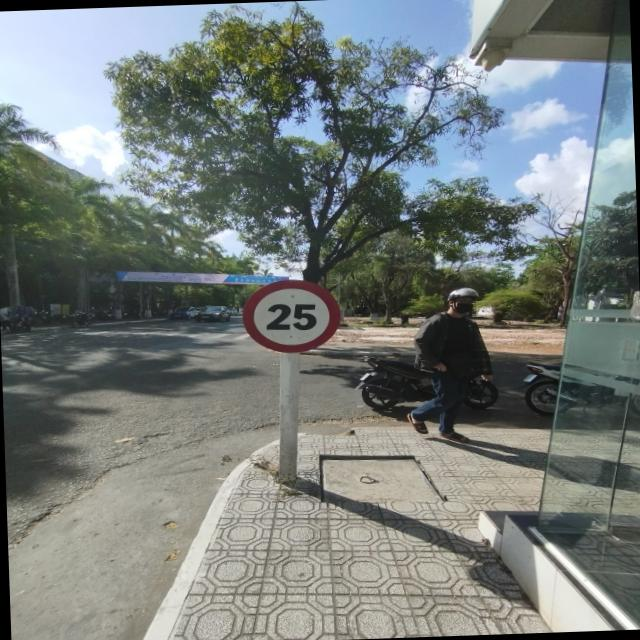Tre_Em: (240, 276, 344, 354)
